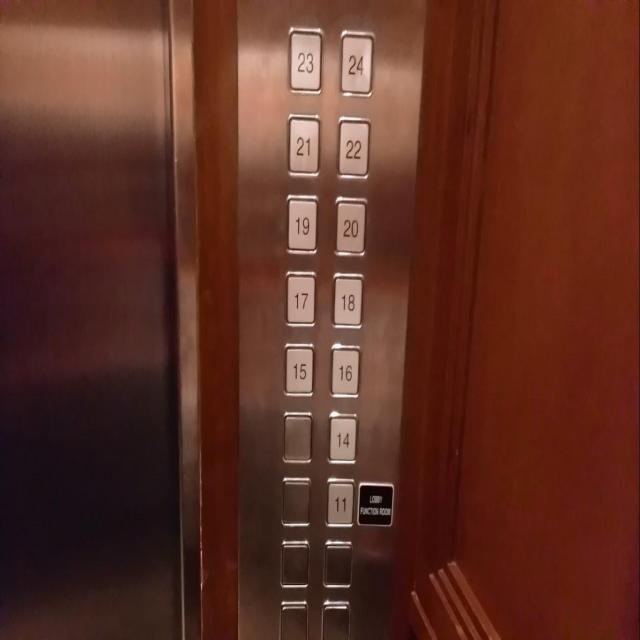11: (324, 476, 356, 530)
14: (326, 409, 358, 464)
15: (283, 340, 315, 399)
16: (328, 342, 361, 400)
17: (284, 270, 318, 328)
18: (330, 271, 363, 328)
19: (284, 192, 318, 255)
20: (333, 193, 368, 256)
21: (286, 111, 322, 177)
22: (337, 116, 370, 179)
23: (286, 24, 322, 95)
24: (340, 30, 374, 99)
empty: (281, 407, 314, 465), (280, 475, 312, 528), (280, 538, 311, 590), (323, 539, 353, 589), (320, 598, 351, 640), (279, 598, 309, 640)
